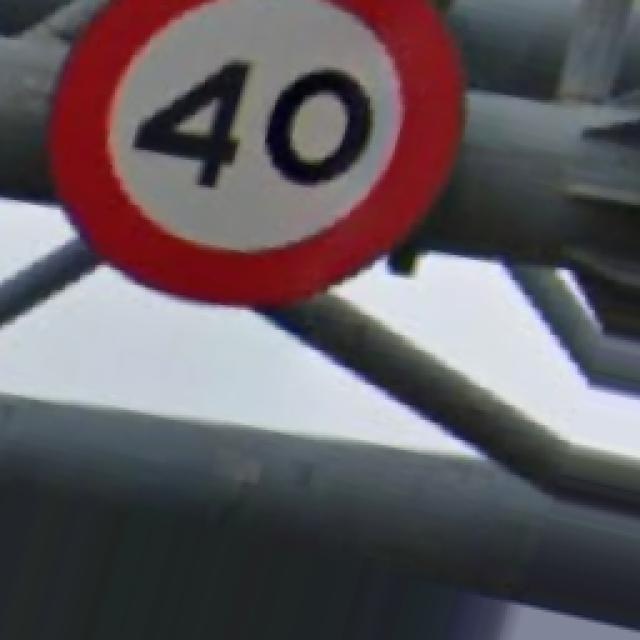Speed Limit -40-: (52, 0, 460, 302)
